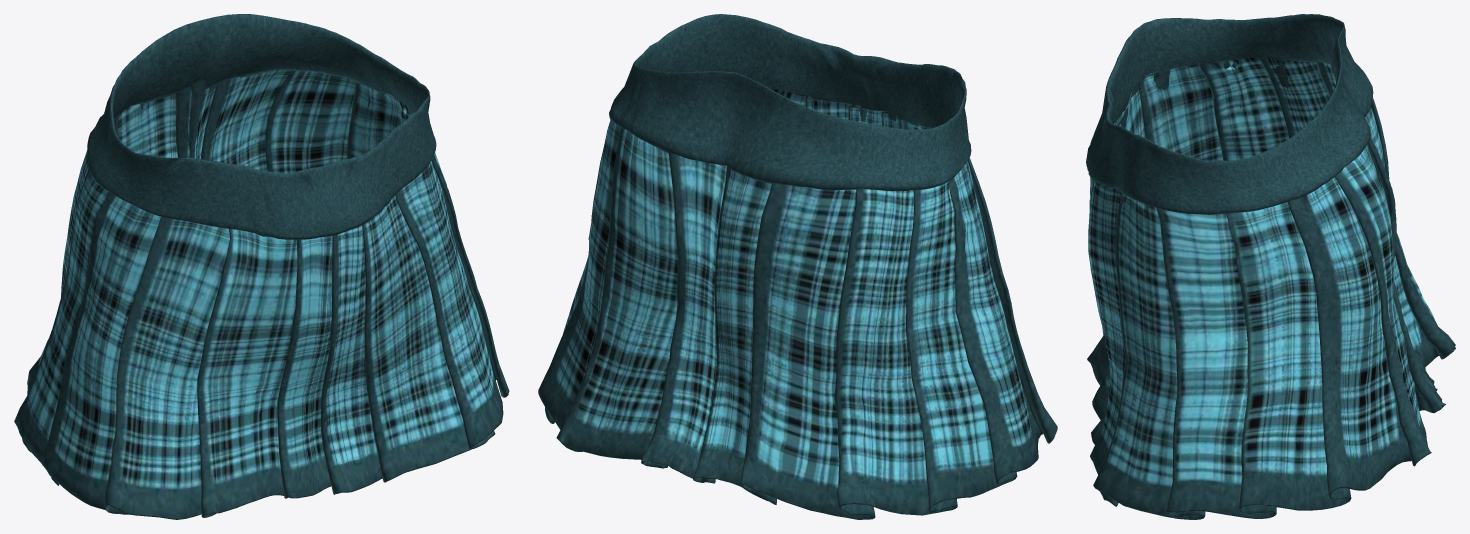
File: elvs-pleated-plaid-mini-skirt.glb
The picture shows the model from 3 angles, left to right: view 1: azimuth 30°, elevation 25°; view 2: azimuth 150°, elevation 25°; view 3: azimuth 270°, elevation 25°; orthographic projection. The views are drawn at different scales.
Parts seen in each view (by area): view 1: Human.elvs_pleated_plaid_mini_skirt; view 2: Human.elvs_pleated_plaid_mini_skirt; view 3: Human.elvs_pleated_plaid_mini_skirt.
Boxes of the visible parts, x1,y1,x2,y2 form: Human.elvs_pleated_plaid_mini_skirt: (14,14,509,519); Human.elvs_pleated_plaid_mini_skirt: (538,14,1057,519); Human.elvs_pleated_plaid_mini_skirt: (1086,14,1455,519).
Bounding box in the file's own units: 0.4592 × 0.4002 × 0.3352.
Materials: 1 (1 with a texture image).
